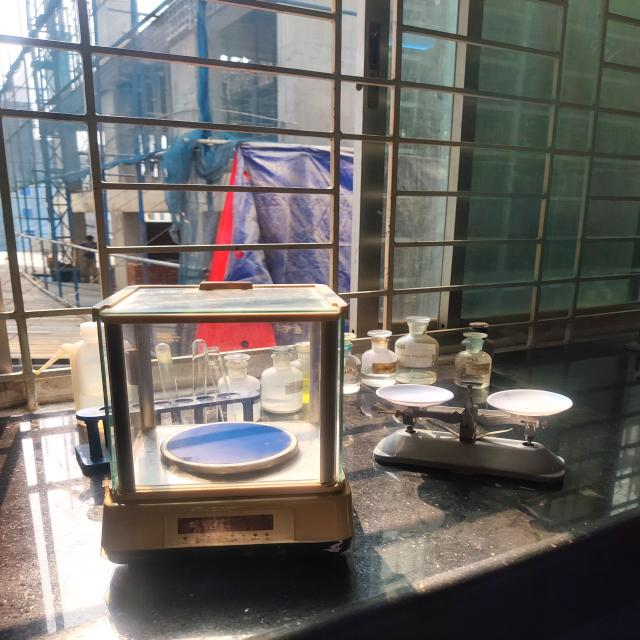Mechanical_Balance_Scale: (358, 354, 593, 516)
Precision_Weight_Scale: (56, 264, 371, 582)
